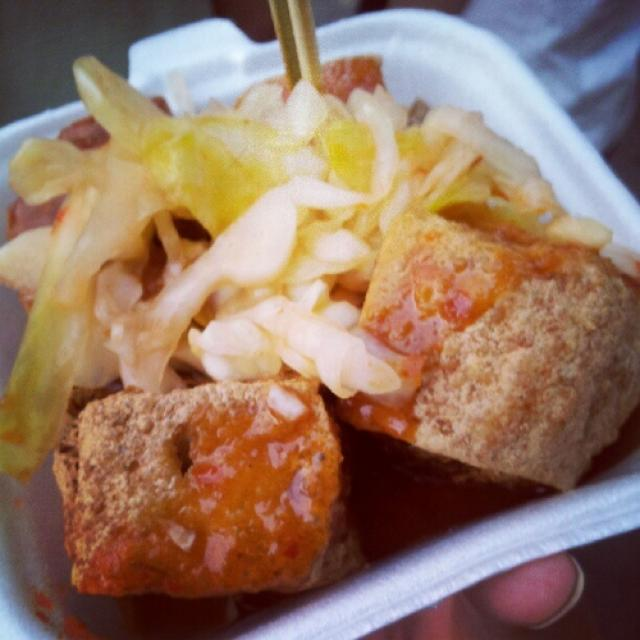豆腐料理: (4, 16, 634, 624)
